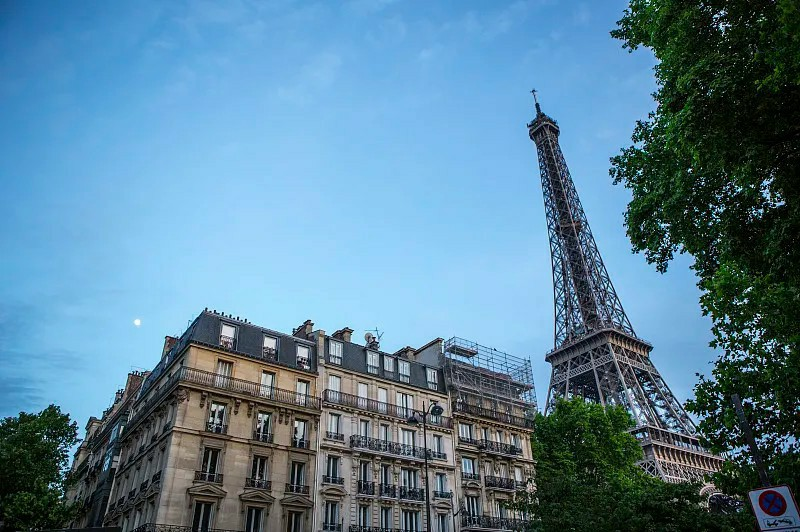Eiffel: (525, 88, 747, 519)
